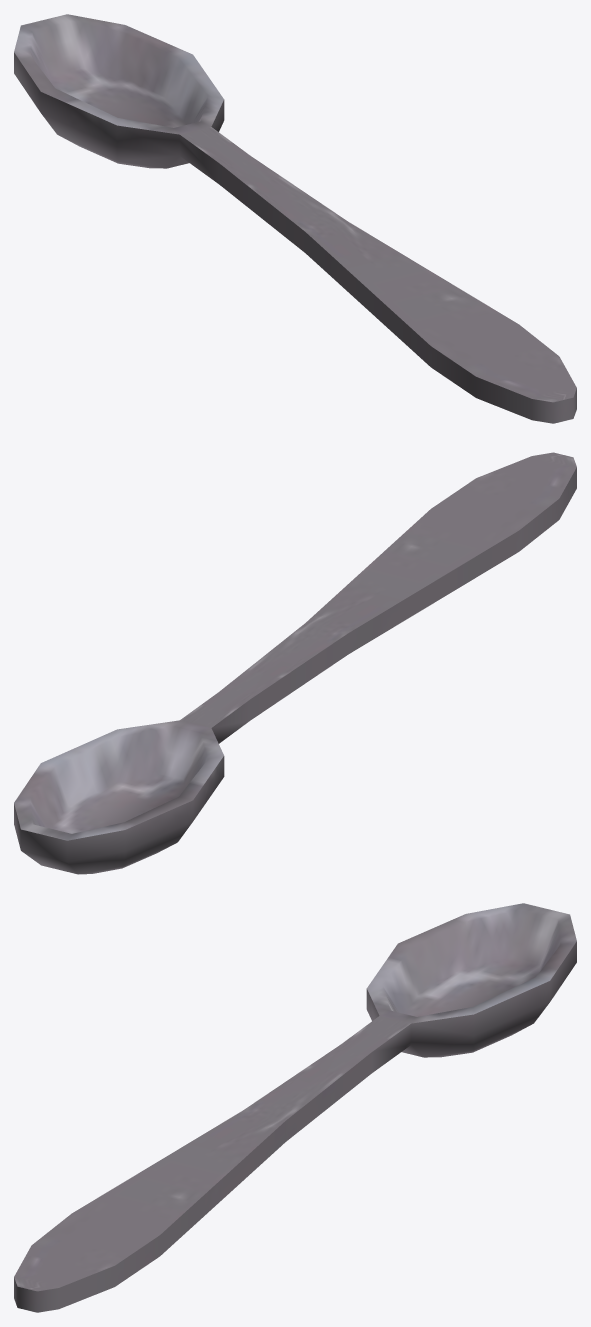
The model's file is prop_table_spoon.glb.
3 views of the same model, one above another, from view 1: azimuth 30°, elevation 25°; view 2: azimuth 150°, elevation 25°; view 3: azimuth 330°, elevation 25° (orthographic).
Parts seen in each view (by area): view 1: Table_Spoon; view 2: Table_Spoon; view 3: Table_Spoon.
Boxes of the visible parts, <box> form: Table_Spoon: <box>14,14,576,423</box>; Table_Spoon: <box>14,452,576,874</box>; Table_Spoon: <box>14,903,576,1312</box>.
Bounding box in the file's own units: 0.046 × 0.0182 × 0.2718.
1 material, 1 textured.
